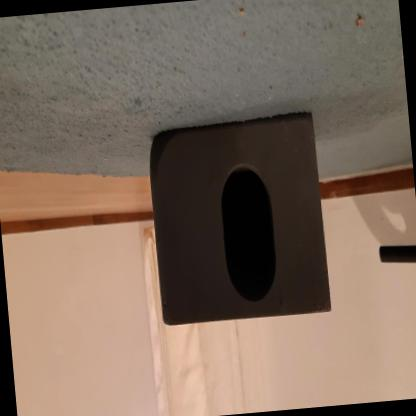CornerCasting: (142, 112, 335, 332)
